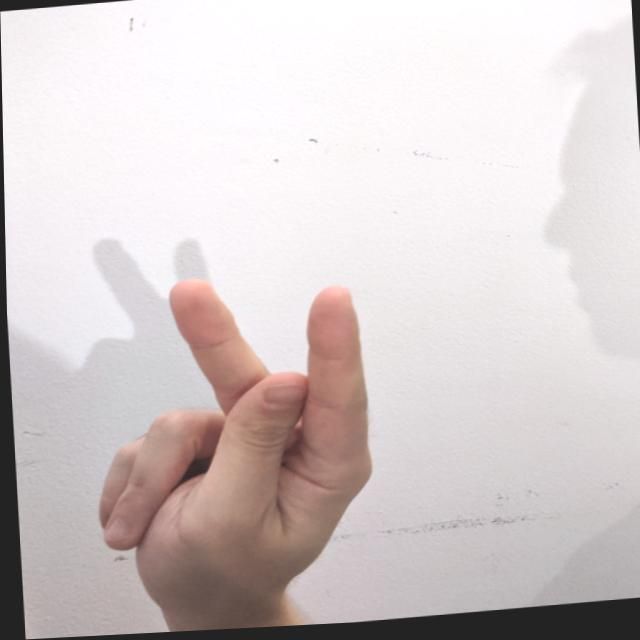K: (76, 256, 393, 636)
